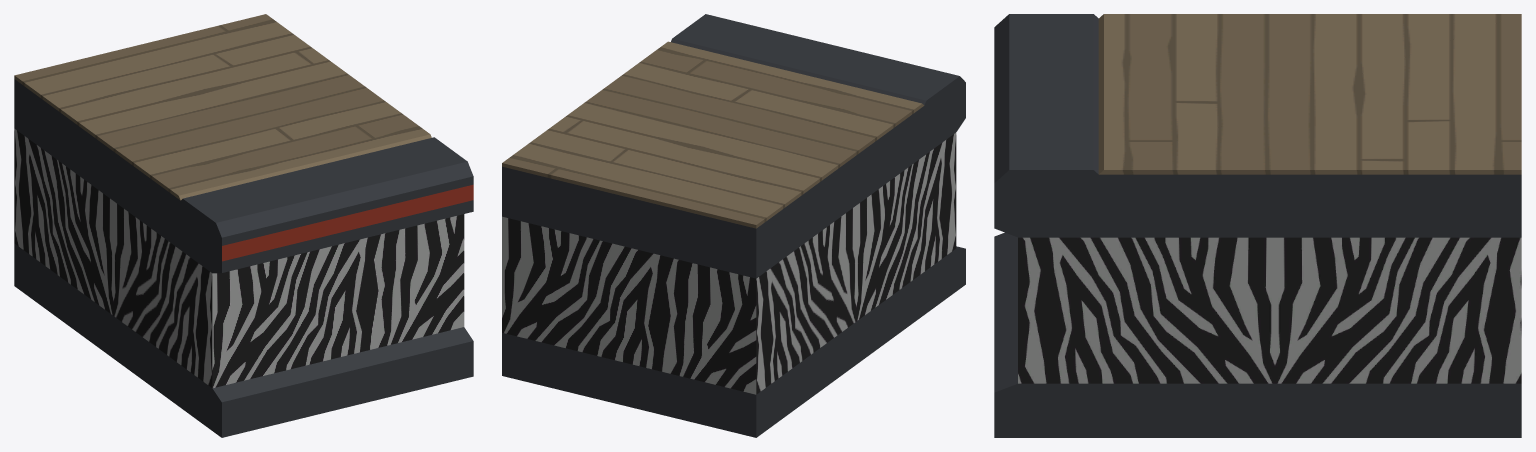
File: SM_Prop_Platform_01_Half_01.obj
3 views of the same model, side by side, from view 1: azimuth 30°, elevation 25°; view 2: azimuth 150°, elevation 25°; view 3: azimuth 270°, elevation 25° (orthographic). The views are drawn at different scales.
Visible parts, largest first — view 1: SM_Prop_Platform_01_Half_01_0, SM_Prop_Platform_01_Half_01_2, SM_Prop_Platform_01_Half_01_1; view 2: SM_Prop_Platform_01_Half_01_0, SM_Prop_Platform_01_Half_01_2, SM_Prop_Platform_01_Half_01_1; view 3: SM_Prop_Platform_01_Half_01_0, SM_Prop_Platform_01_Half_01_2, SM_Prop_Platform_01_Half_01_1.
Part boxes in pixels (x1,y1,x2,y2): SM_Prop_Platform_01_Half_01_0: (14, 79, 473, 437); SM_Prop_Platform_01_Half_01_2: (14, 128, 464, 388); SM_Prop_Platform_01_Half_01_1: (14, 14, 431, 200); SM_Prop_Platform_01_Half_01_0: (502, 14, 965, 437); SM_Prop_Platform_01_Half_01_2: (502, 132, 956, 394); SM_Prop_Platform_01_Half_01_1: (502, 41, 924, 228); SM_Prop_Platform_01_Half_01_0: (994, 14, 1521, 437); SM_Prop_Platform_01_Half_01_2: (1018, 237, 1521, 383); SM_Prop_Platform_01_Half_01_1: (1098, 14, 1521, 174).
Size of the model in its own units: 1.25 by 1 by 1.78.
Materials: 3 (3 with a texture image).
